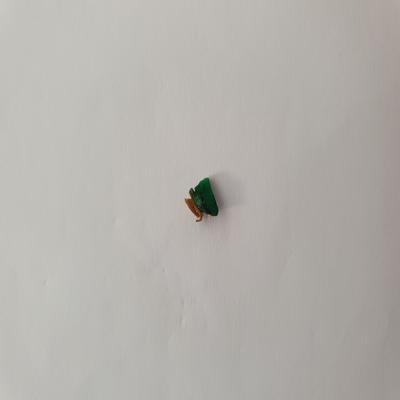plastic: (183, 173, 221, 225)
